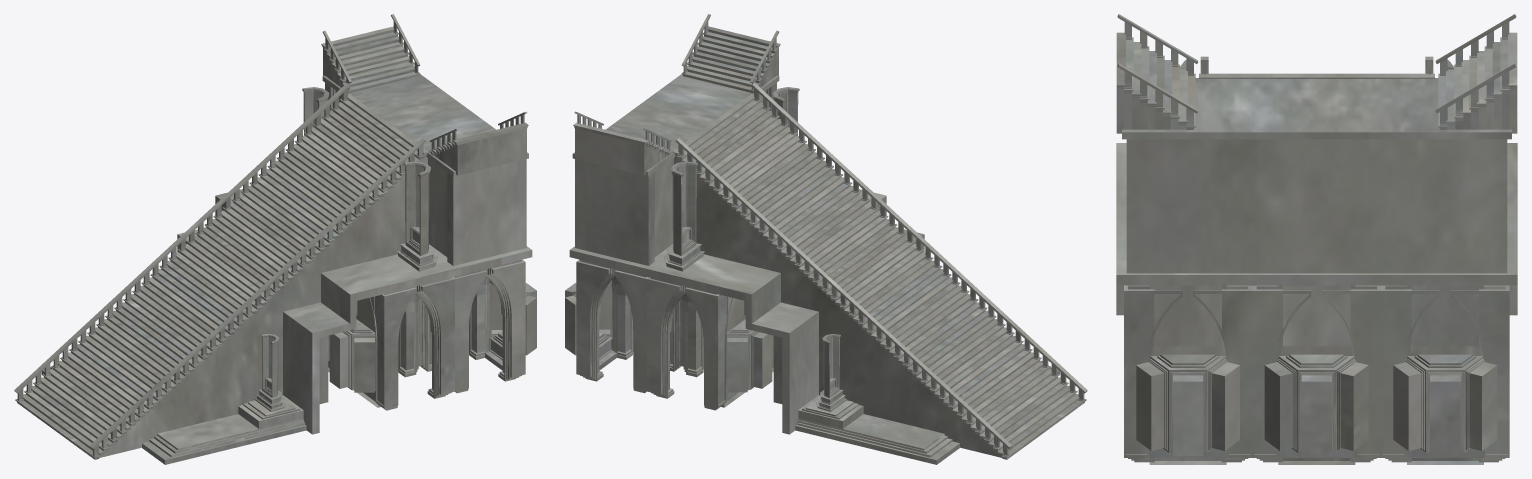
Rendered from navestairs-textured1.fbx.
The picture shows the model from 3 angles, left to right: view 1: azimuth 30°, elevation 25°; view 2: azimuth 150°, elevation 25°; view 3: azimuth 270°, elevation 25°; orthographic projection. The views are drawn at different scales.
Visible parts, largest first — view 1: NAVE STAIRS; view 2: NAVE STAIRS; view 3: NAVE STAIRS.
Part boxes in pixels (x1=…): NAVE STAIRS: x1=14, y1=14, x2=536, y2=464; NAVE STAIRS: x1=565, y1=14, x2=1087, y2=464; NAVE STAIRS: x1=1116, y1=14, x2=1517, y2=464.
Bounding box in the file's own units: 2945 × 1745 × 1582.
